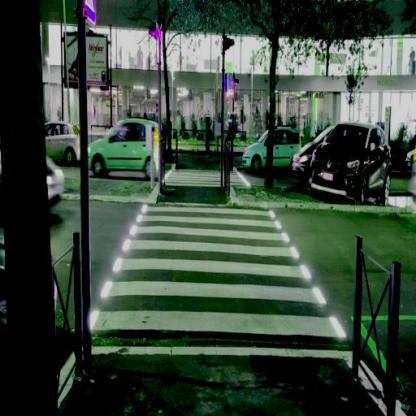crosswalk: (99, 255, 332, 306), (119, 206, 299, 244)
